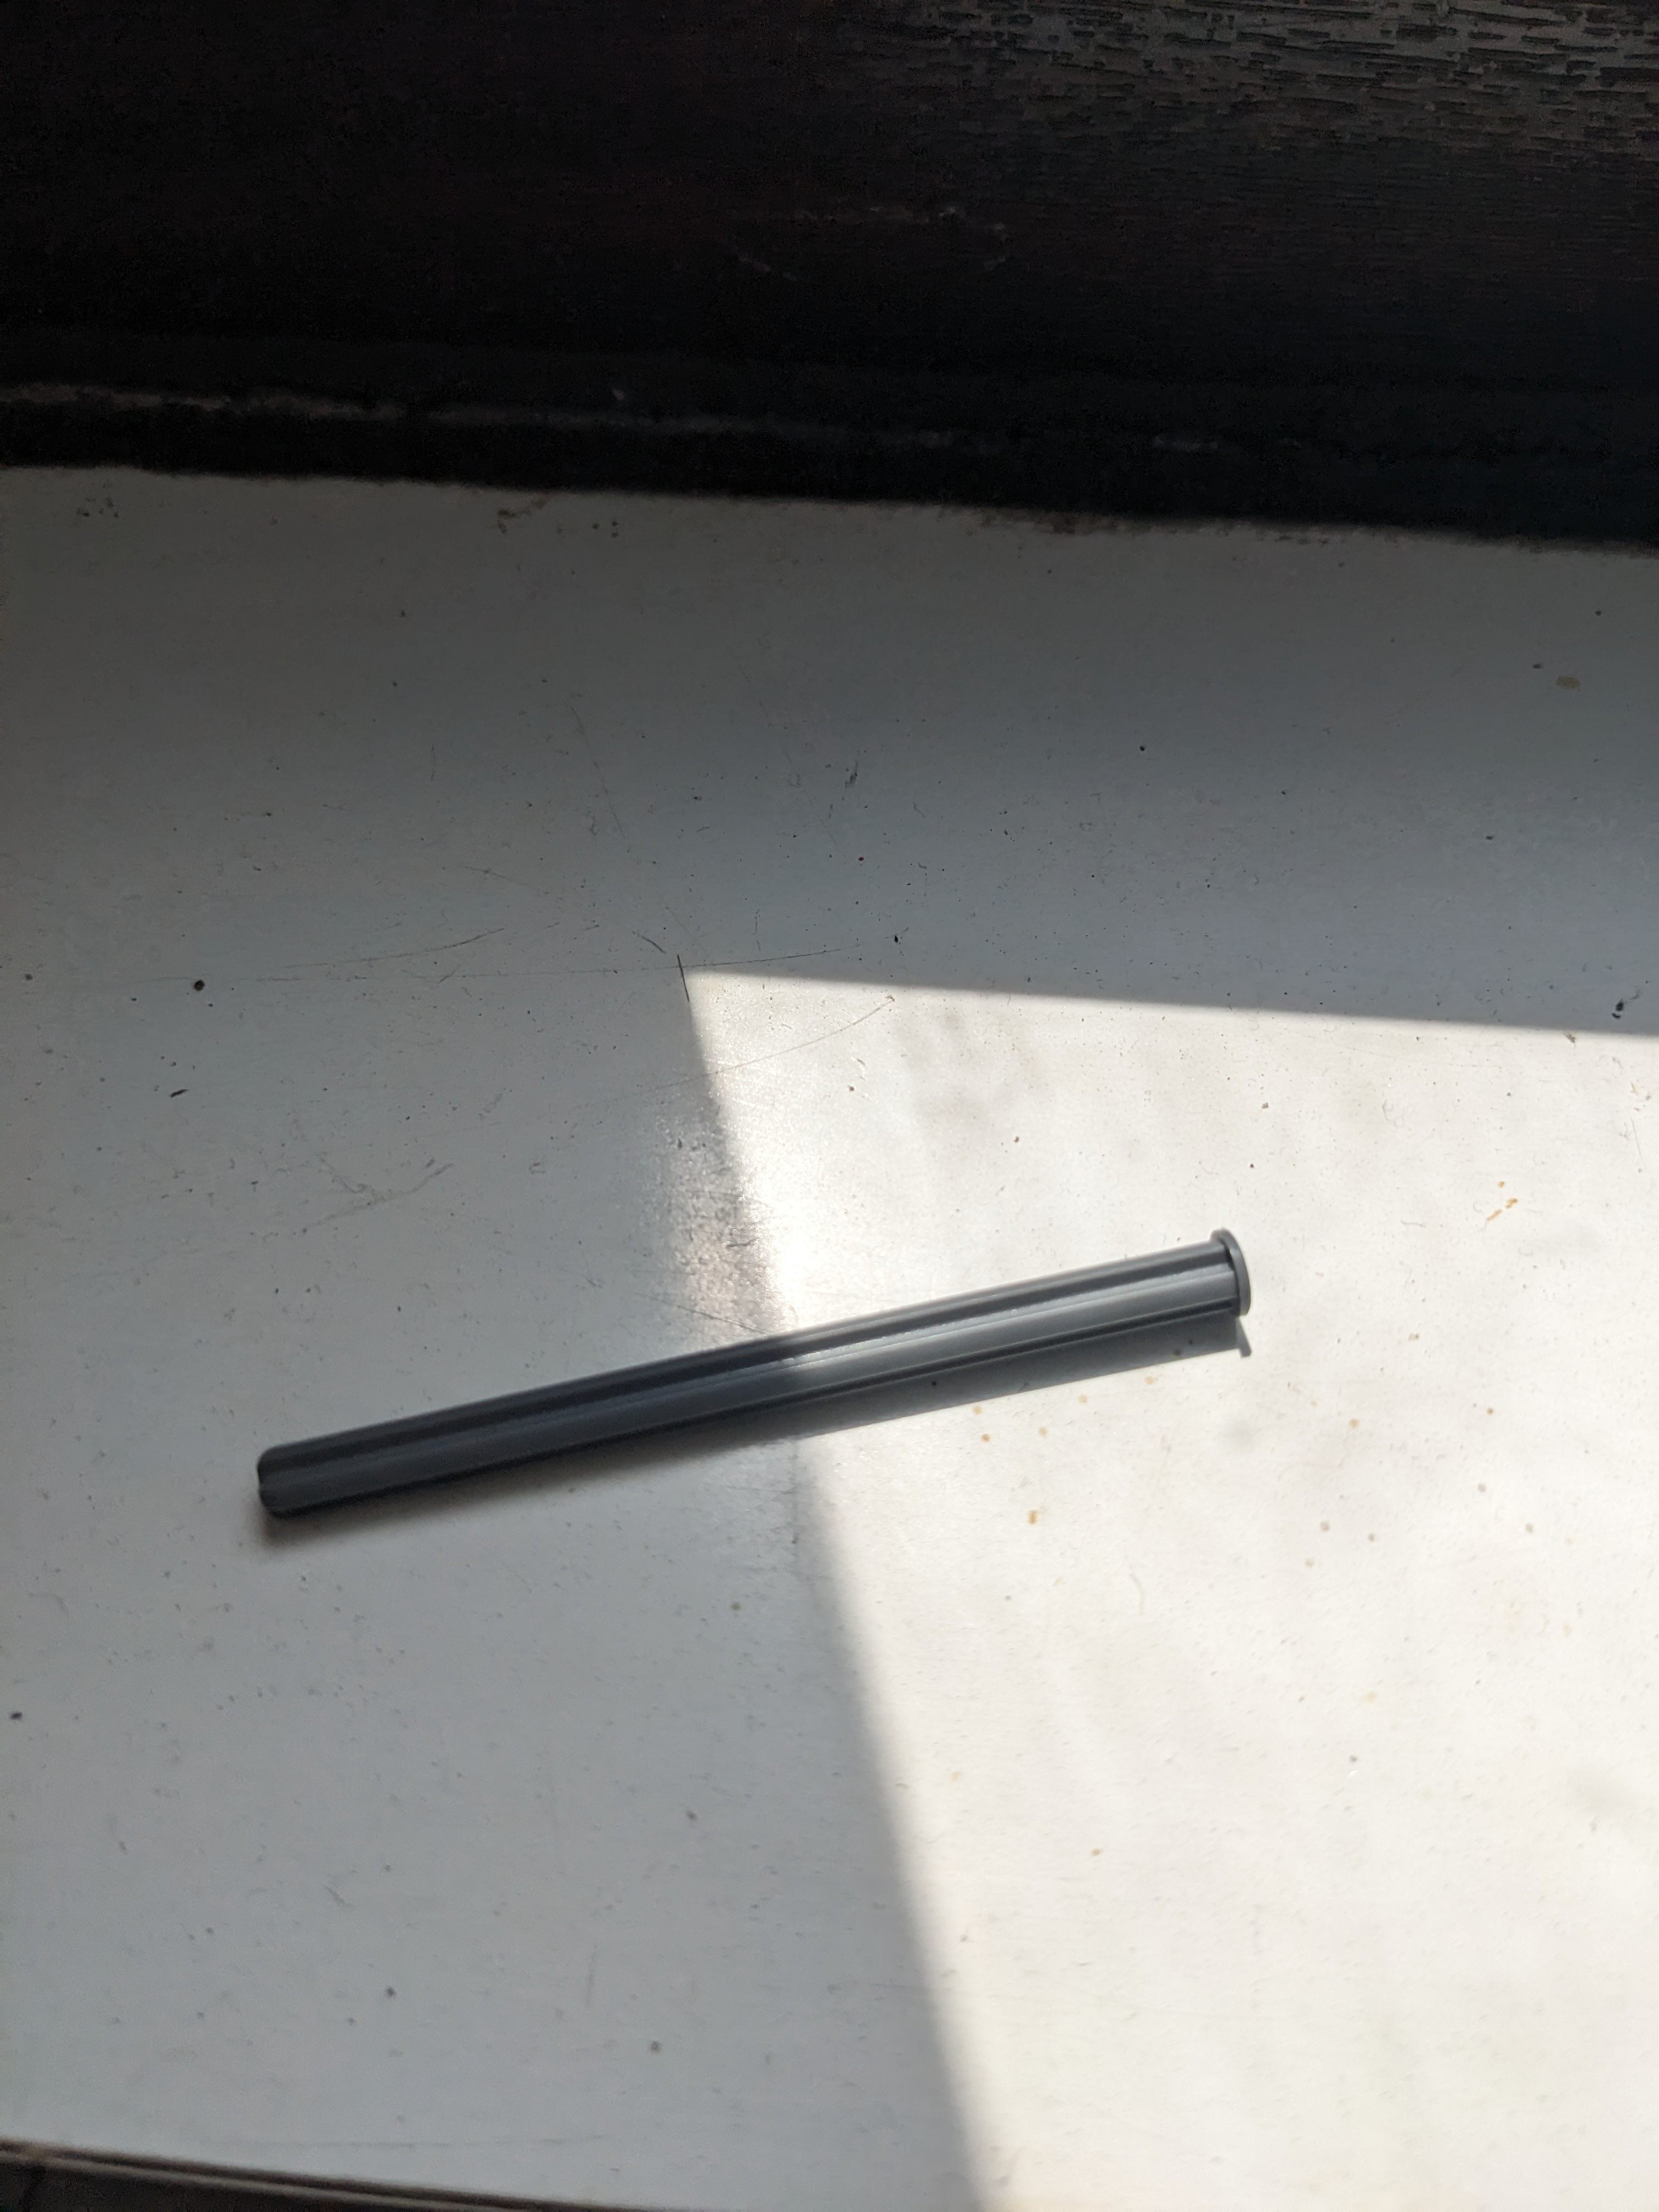Grau_lang: (235, 1223, 1279, 1554)
